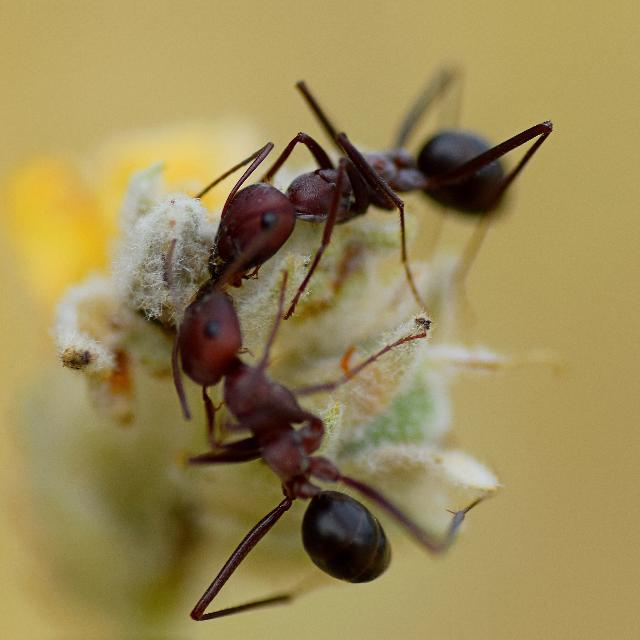Cataglyphis: (143, 269, 437, 623), (192, 80, 540, 290)
